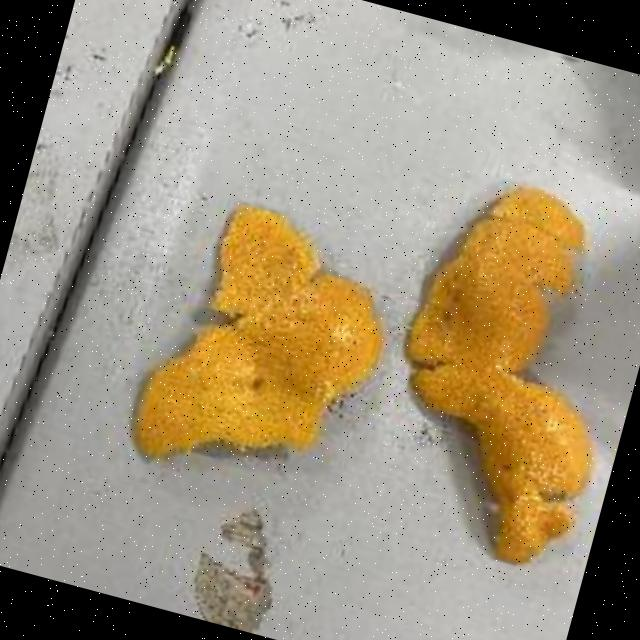orange-peel: (354, 160, 640, 577), (120, 183, 410, 509)
